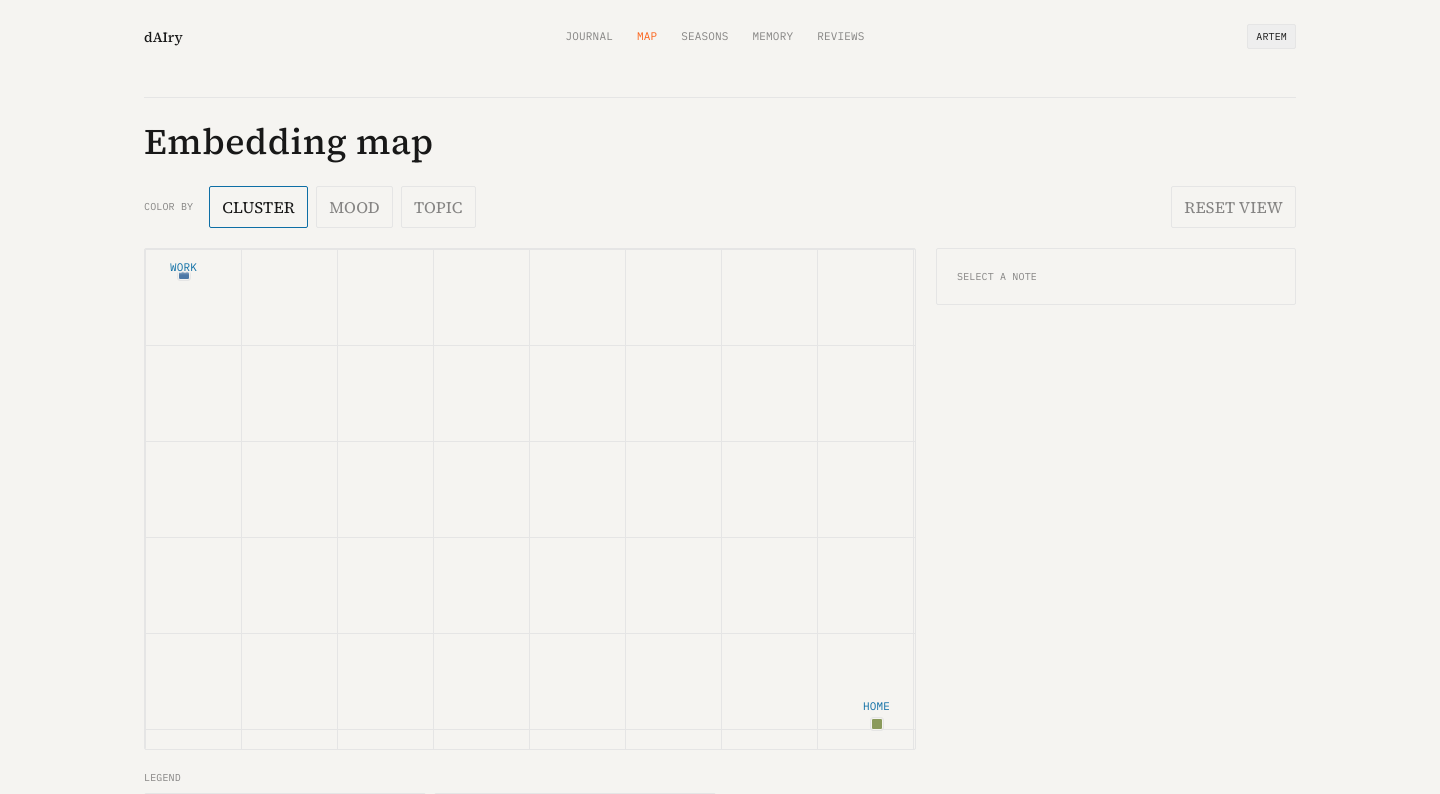
Phase 3 map view › hover shows the gist tooltip and click opens the raw-note side panel
The image size is (1440, 794).
Hover over the button named "NOTE 1" at (184, 274), box 178,268 -> 190,280
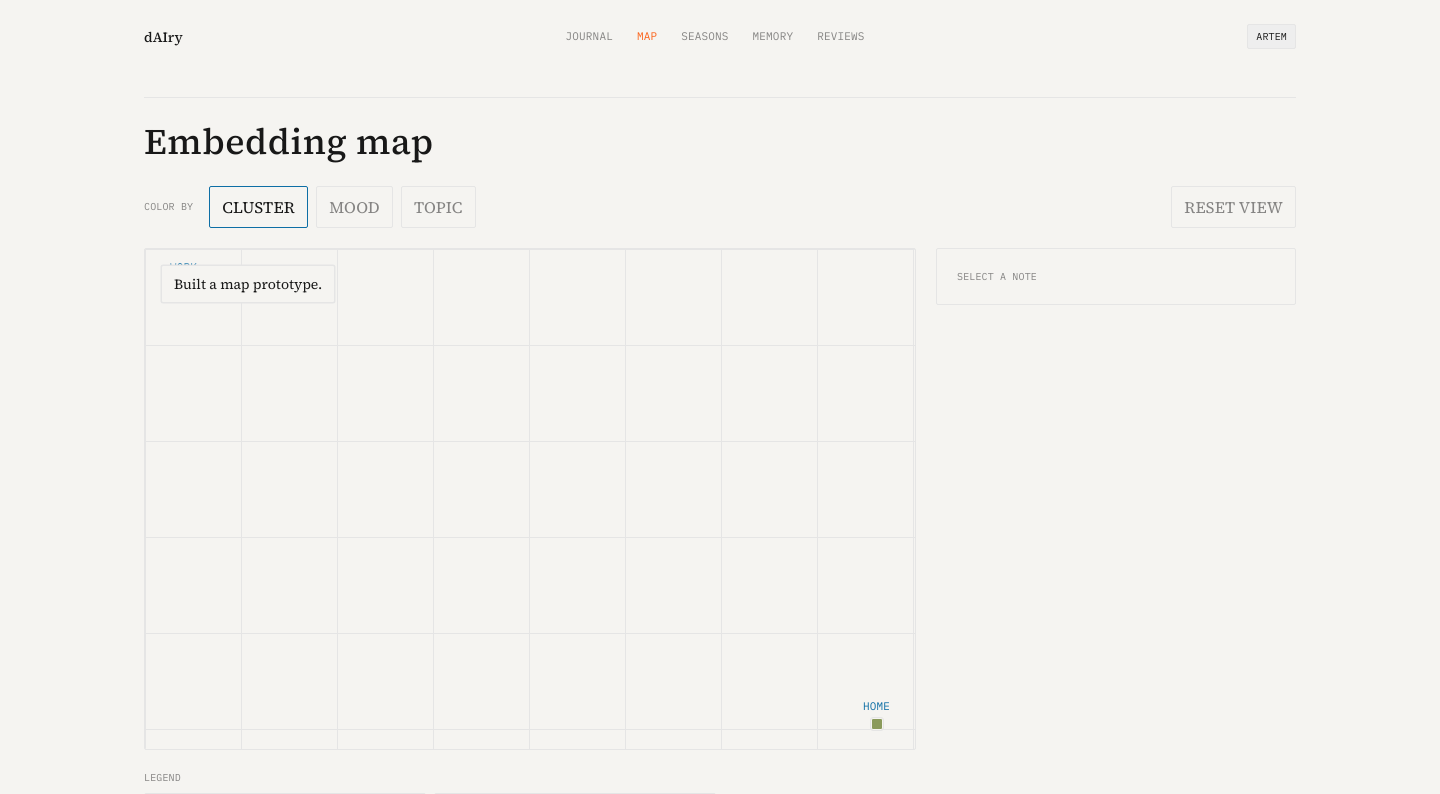
Expected: the tooltip reads "Built a map prototype.", 174,274 -> 322,294
Click the button named "NOTE 1" at (184, 274), box 178,268 -> 190,280
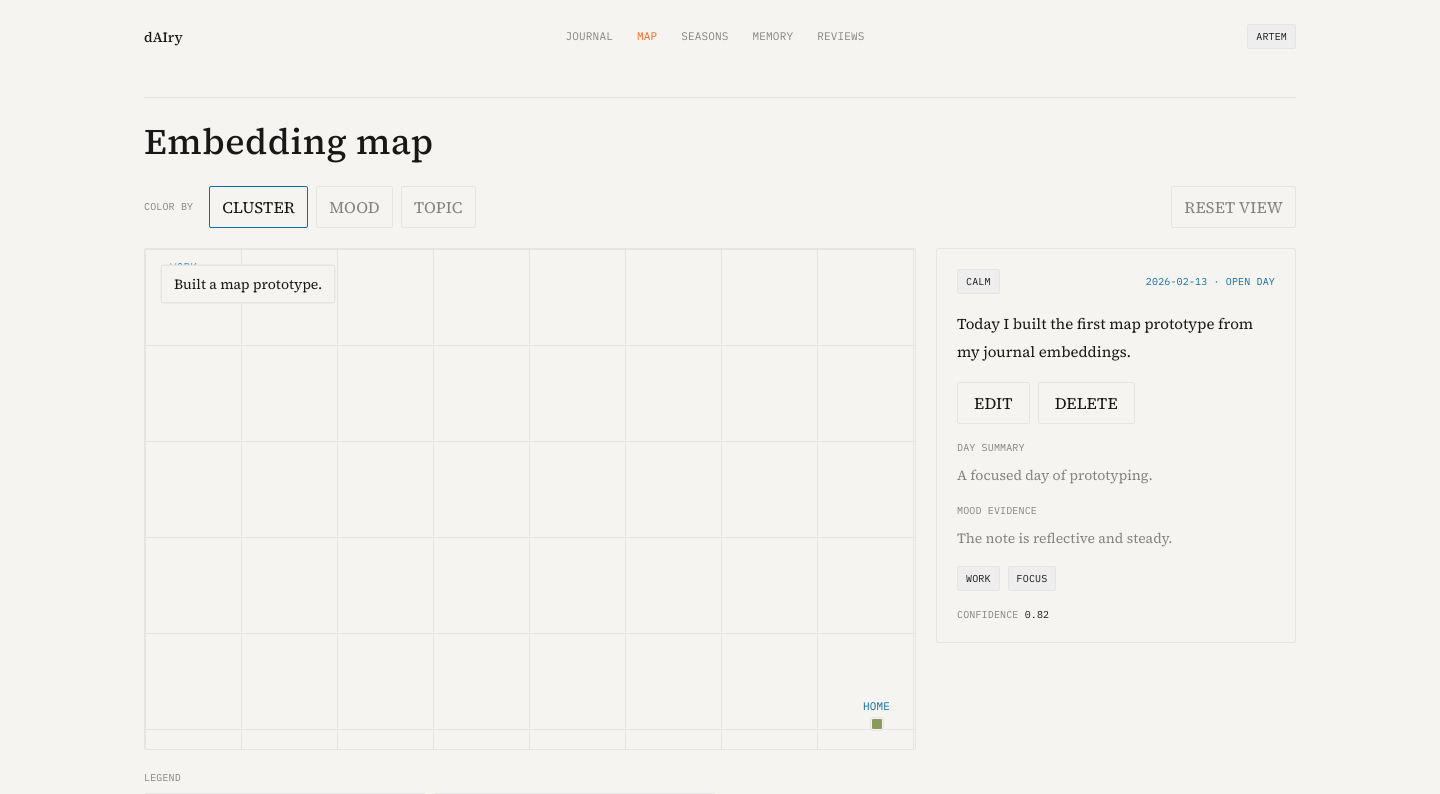
Expected: the text "CALM" is shown, 957,269 -> 1000,294
Expected: the text "The note is reflective and steady." is shown, 957,528 -> 1172,548
Expected: the text "WORK" below "The note is reflective and steady." is shown, 966,572 -> 991,585
